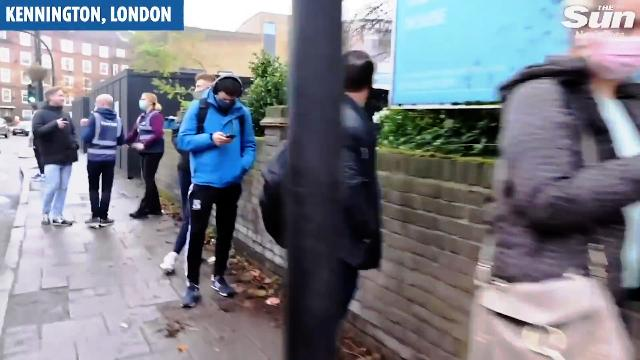berdiri: (178, 61, 248, 320), (26, 80, 80, 232), (80, 91, 114, 241), (131, 86, 163, 238)
